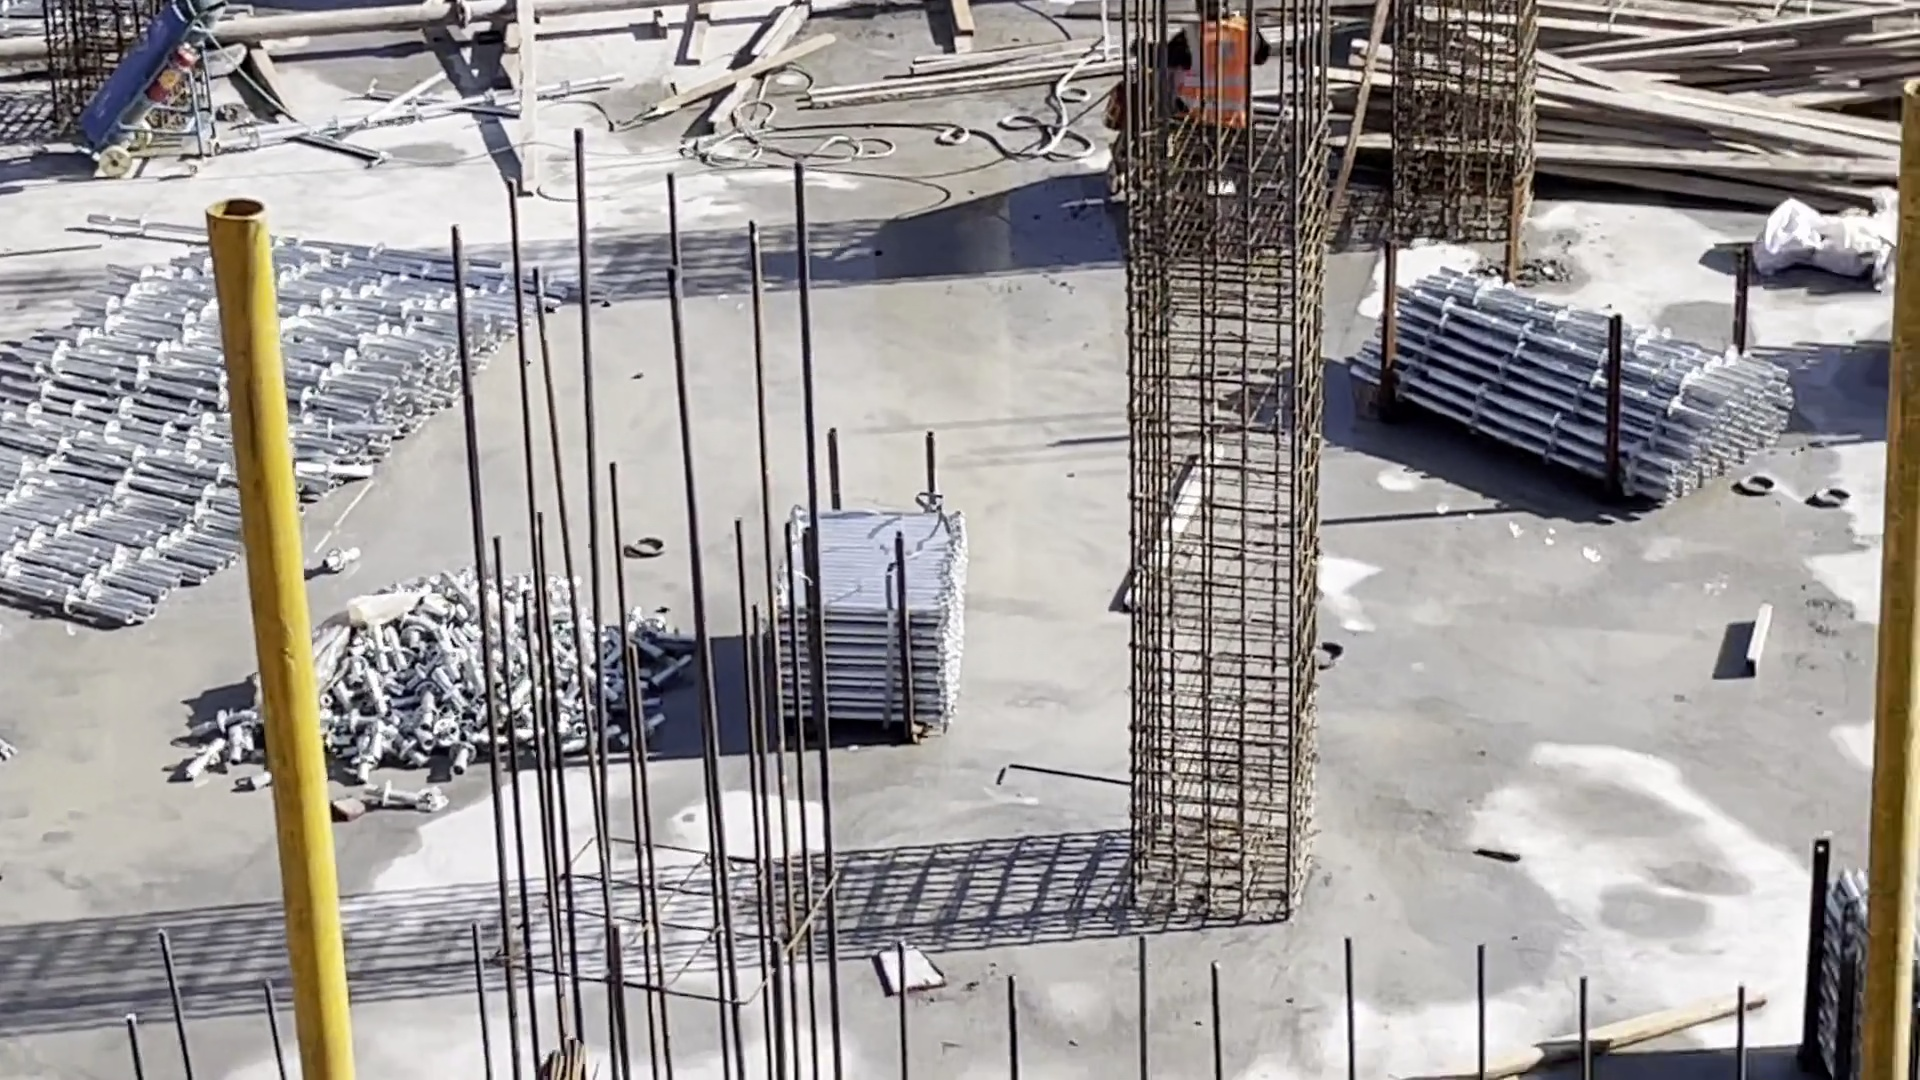person: (1164, 2, 1264, 217)
scaffold: (2, 211, 604, 629), (1340, 268, 1796, 509), (774, 504, 967, 739)
vest: (1177, 23, 1252, 119)
